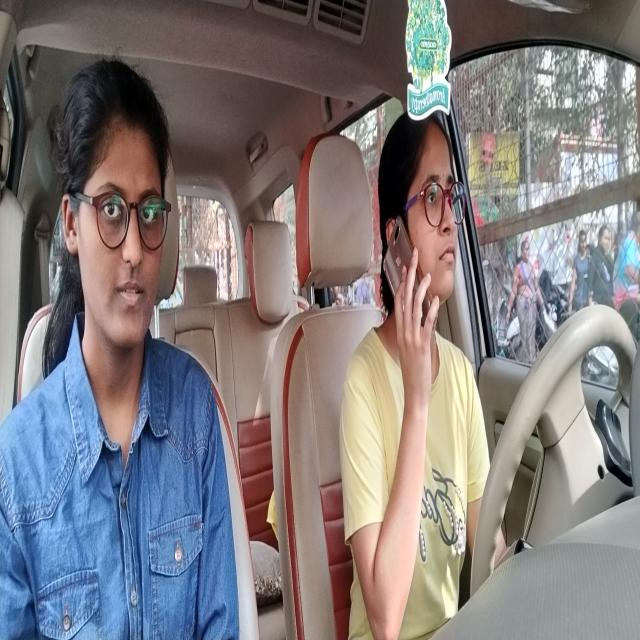mobile: (383, 215, 428, 361)
person: (62, 57, 175, 359), (379, 110, 463, 351)
